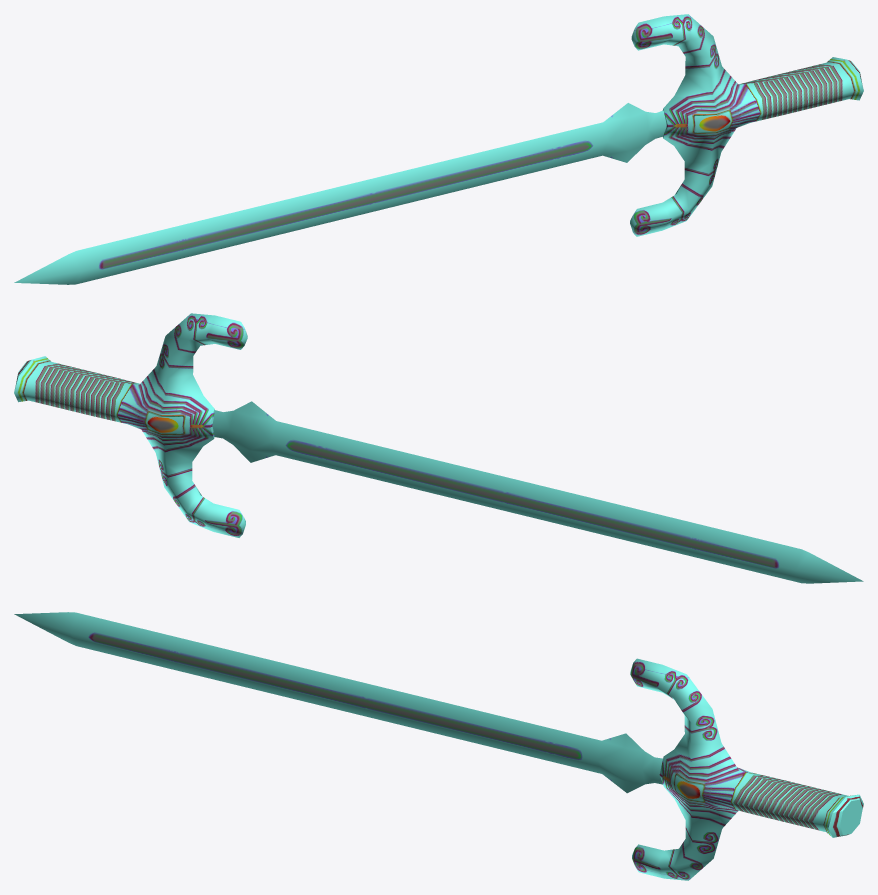
Rendered from BlueLightSword.FBX.
3 views of the same model, one above another, from view 1: azimuth 30°, elevation 25°; view 2: azimuth 150°, elevation 25°; view 3: azimuth 330°, elevation 25° (orthographic).
Parts seen in each view (by area): view 1: Object001; view 2: Object001; view 3: Object001.
Boxes of the visible parts, x1=… form: Object001: x1=14, y1=14, x2=863, y2=284; Object001: x1=14, y1=313, x2=863, y2=583; Object001: x1=14, y1=612, x2=863, y2=880.
Size of the model in its own units: 136 by 9.99 by 33.37.
Materials: 1 (1 with a texture image).
